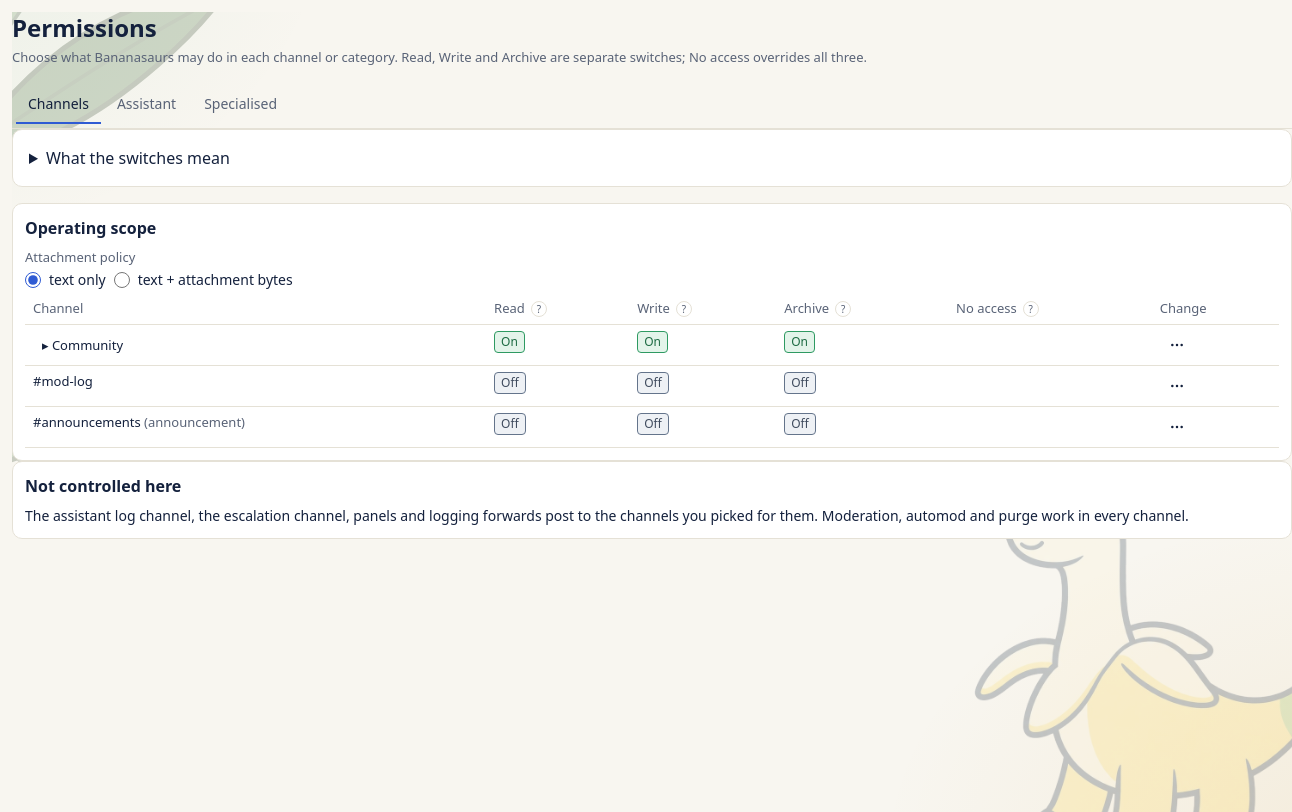
PermissionsPage › shows the Read column with via-category state for a category-granted channel
Click the button "▸ Community" at (82, 345), box [33,331,132,359]
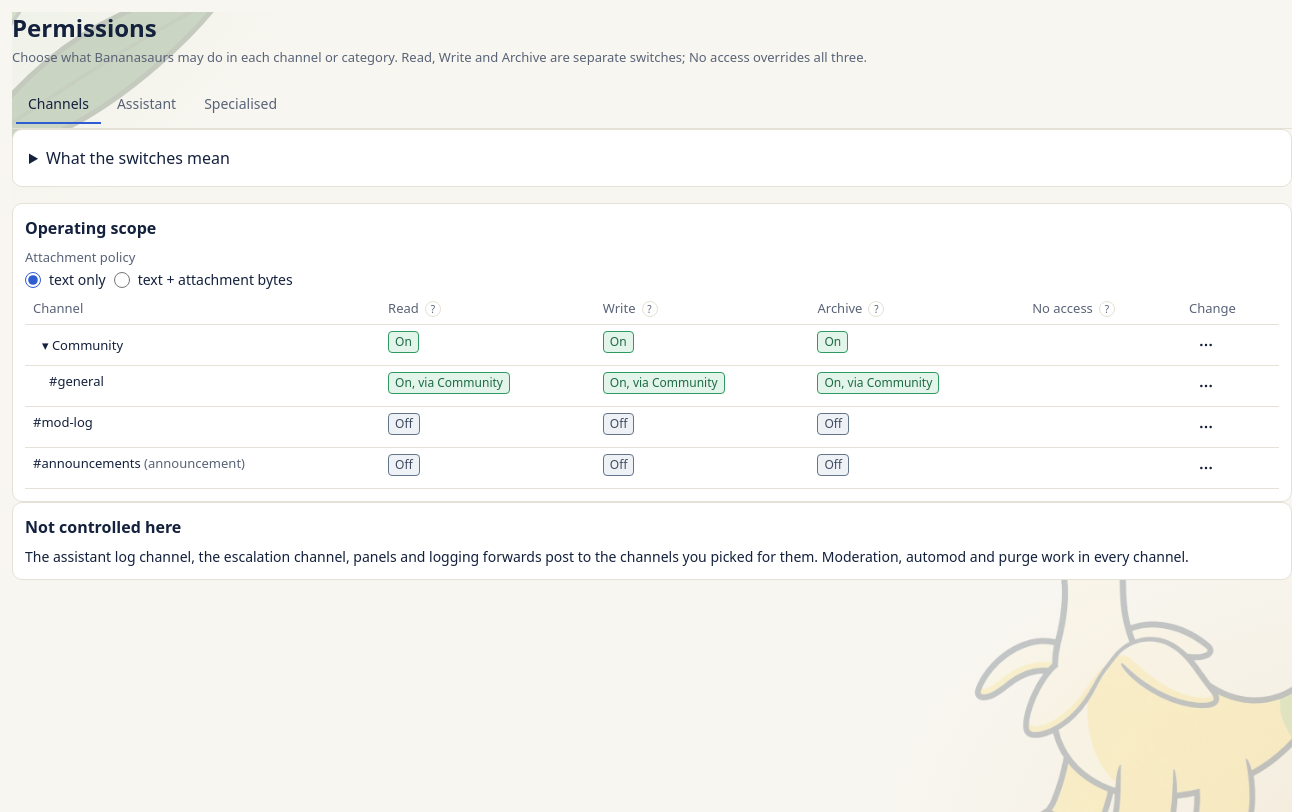
Result: the text "On, via Community" is shown 3 times at [388,372,510,394]; [603,372,725,394]; [818,372,939,394]
